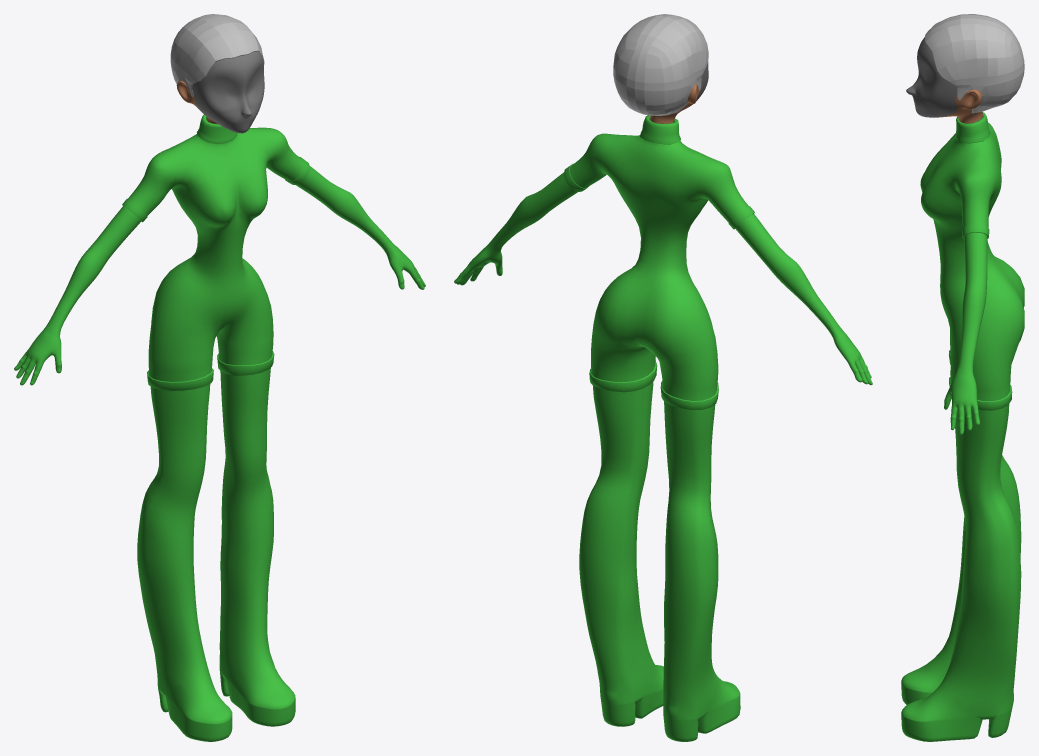
File: Green.fbx
The picture shows the model from 3 angles, left to right: view 1: azimuth 30°, elevation 25°; view 2: azimuth 150°, elevation 25°; view 3: azimuth 270°, elevation 25°; orthographic projection.
Visible parts, largest first — view 1: Top, R_boot, L_boot, Body, R_Glove, Hair, L_Glove; view 2: Top, L_boot, R_boot, Hair, R_Glove, L_Glove; view 3: L_boot, Top, Hair, L_Glove, R_boot, Body.
Part boxes in pixels (x1=…): Top: x1=122, y1=114, x2=309, y2=390; R_boot: x1=137, y1=372, x2=232, y2=741; L_boot: x1=219, y1=367, x2=295, y2=726; Body: x1=176, y1=51, x2=264, y2=133; R_Glove: x1=14, y1=206, x2=141, y2=385; Hair: x1=170, y1=14, x2=264, y2=96; L_Glove: x1=296, y1=166, x2=425, y2=289; Top: x1=564, y1=115, x2=754, y2=409; L_boot: x1=579, y1=369, x2=663, y2=726; R_boot: x1=663, y1=390, x2=740, y2=741; Hair: x1=613, y1=14, x2=708, y2=115; R_Glove: x1=735, y1=213, x2=872, y2=385; L_Glove: x1=454, y1=172, x2=578, y2=285; L_boot: x1=901, y1=392, x2=1021, y2=741; Top: x1=920, y1=112, x2=1024, y2=410; Hair: x1=925, y1=14, x2=1024, y2=113; L_Glove: x1=944, y1=232, x2=987, y2=434; R_boot: x1=901, y1=455, x2=1021, y2=704; Body: x1=906, y1=37, x2=982, y2=123.
Bounding box in the file's own units: 103 × 168 × 26.99.
